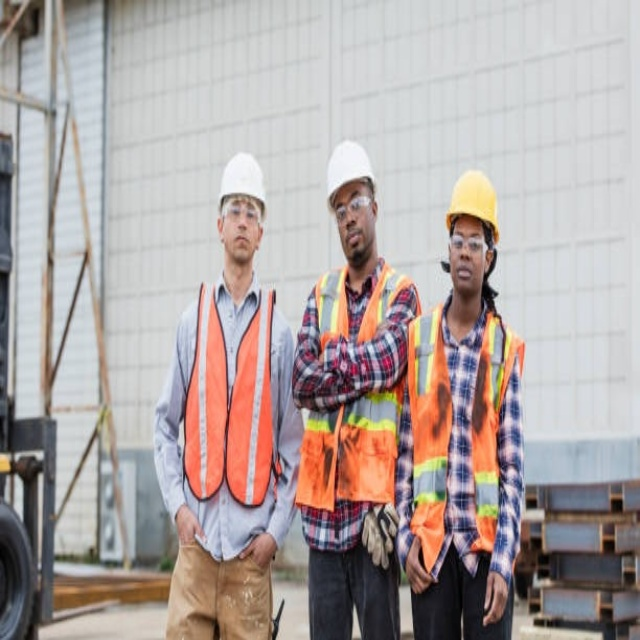Gafas: (335, 195, 374, 225), (222, 201, 262, 227), (448, 233, 488, 254)
Sin_guantes: (404, 531, 436, 591), (482, 568, 509, 623), (240, 531, 275, 571), (175, 507, 205, 549)
Sin_mascara: (454, 260, 476, 289)
